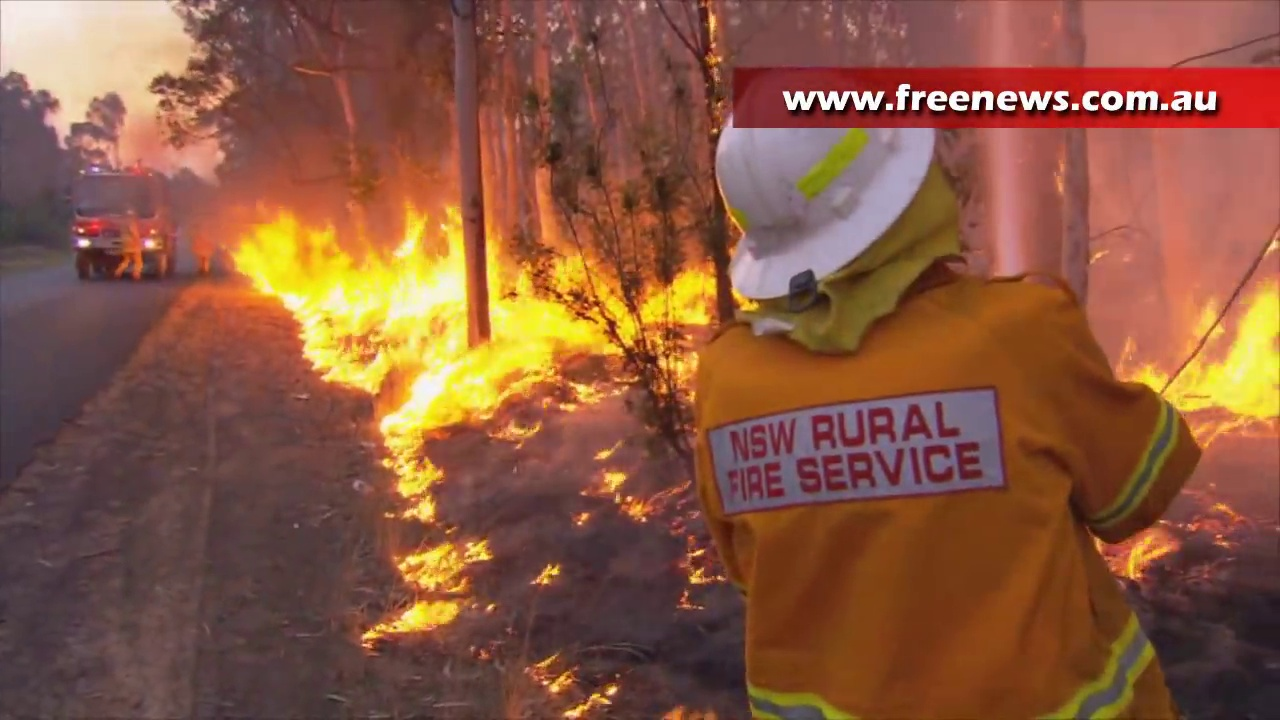fire: (236, 201, 717, 405), (1177, 301, 1280, 428), (366, 540, 493, 643), (378, 409, 444, 518), (523, 649, 615, 720), (589, 449, 663, 518), (1122, 532, 1171, 582)
